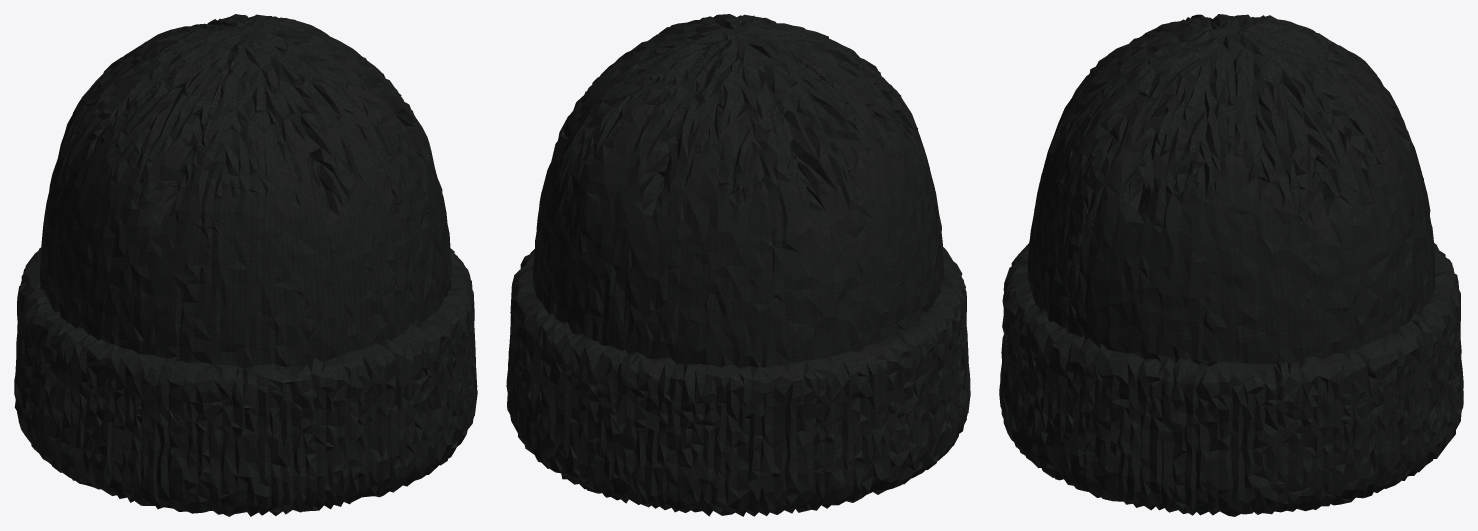
The model's file is Black_Beanie.glb.
The picture shows the model from 3 angles, left to right: view 1: azimuth 30°, elevation 25°; view 2: azimuth 150°, elevation 25°; view 3: azimuth 270°, elevation 25°; orthographic projection.
Bounding box in the file's own units: 0.232 × 0.2196 × 0.232.
1 material, 1 textured.
